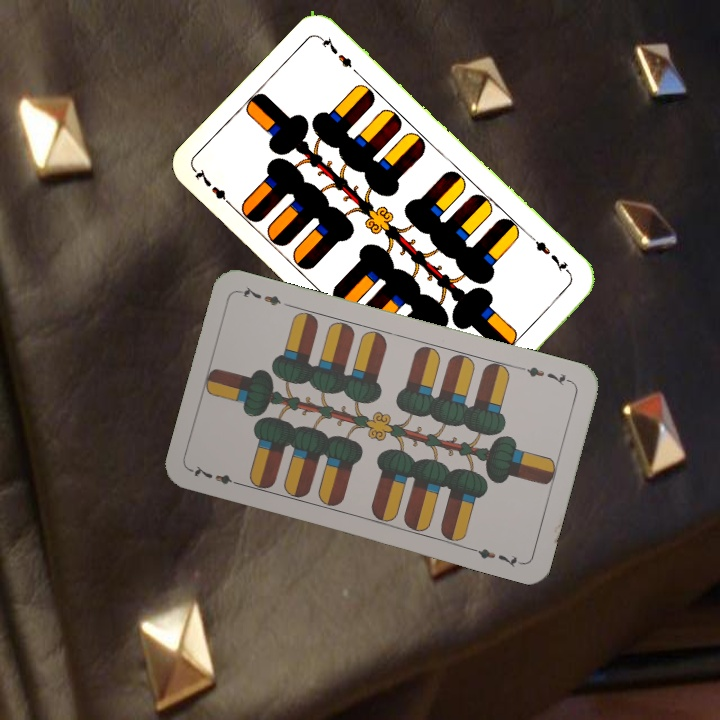E7: (190, 164, 237, 212), (528, 233, 575, 279), (188, 461, 246, 489), (517, 362, 575, 389)
